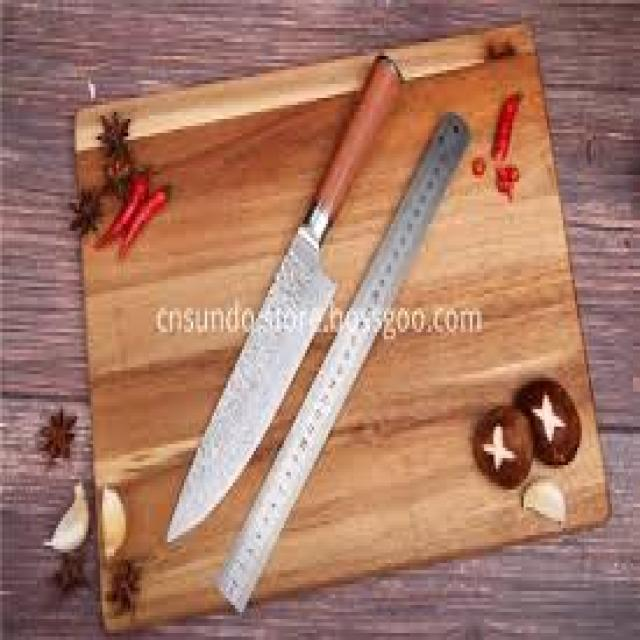Knife: (168, 52, 403, 542)
